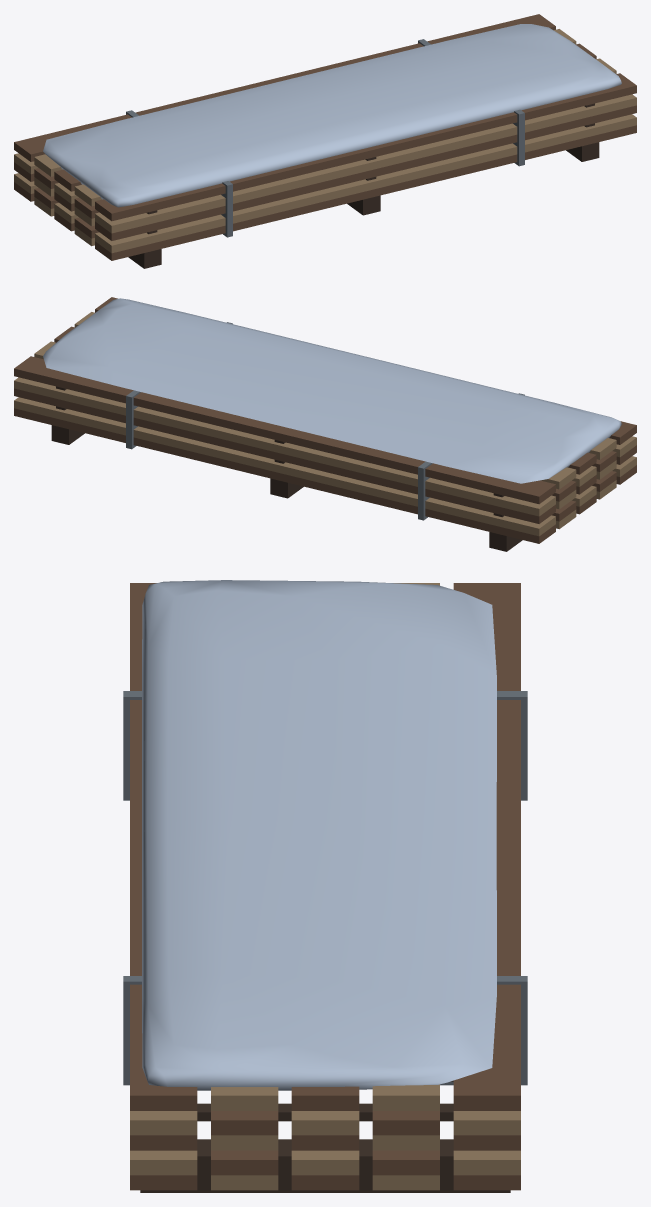
Rendered from lumber_stack.glb.
3 renders of one model, top to bottom at view 1: azimuth 30°, elevation 25°; view 2: azimuth 150°, elevation 25°; view 3: azimuth 270°, elevation 25°, orthographic. The views are drawn at different scales.
Visible parts, largest first — view 1: Prop; view 2: Prop; view 3: Prop.
Boxes of the visible parts, left/top/right/bottom form: Prop: left=14, top=14, right=636, bottom=268; Prop: left=14, top=297, right=636, bottom=551; Prop: left=123, top=580, right=527, bottom=1192.
Size of the model in its own units: 3.6 by 0.5056 by 1.2.
